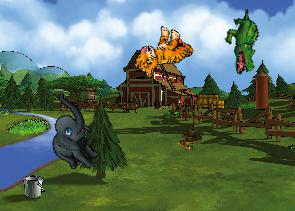crocodile: (216, 8, 271, 76)
elephant: (28, 91, 117, 177)
tiger: (130, 19, 197, 89)
